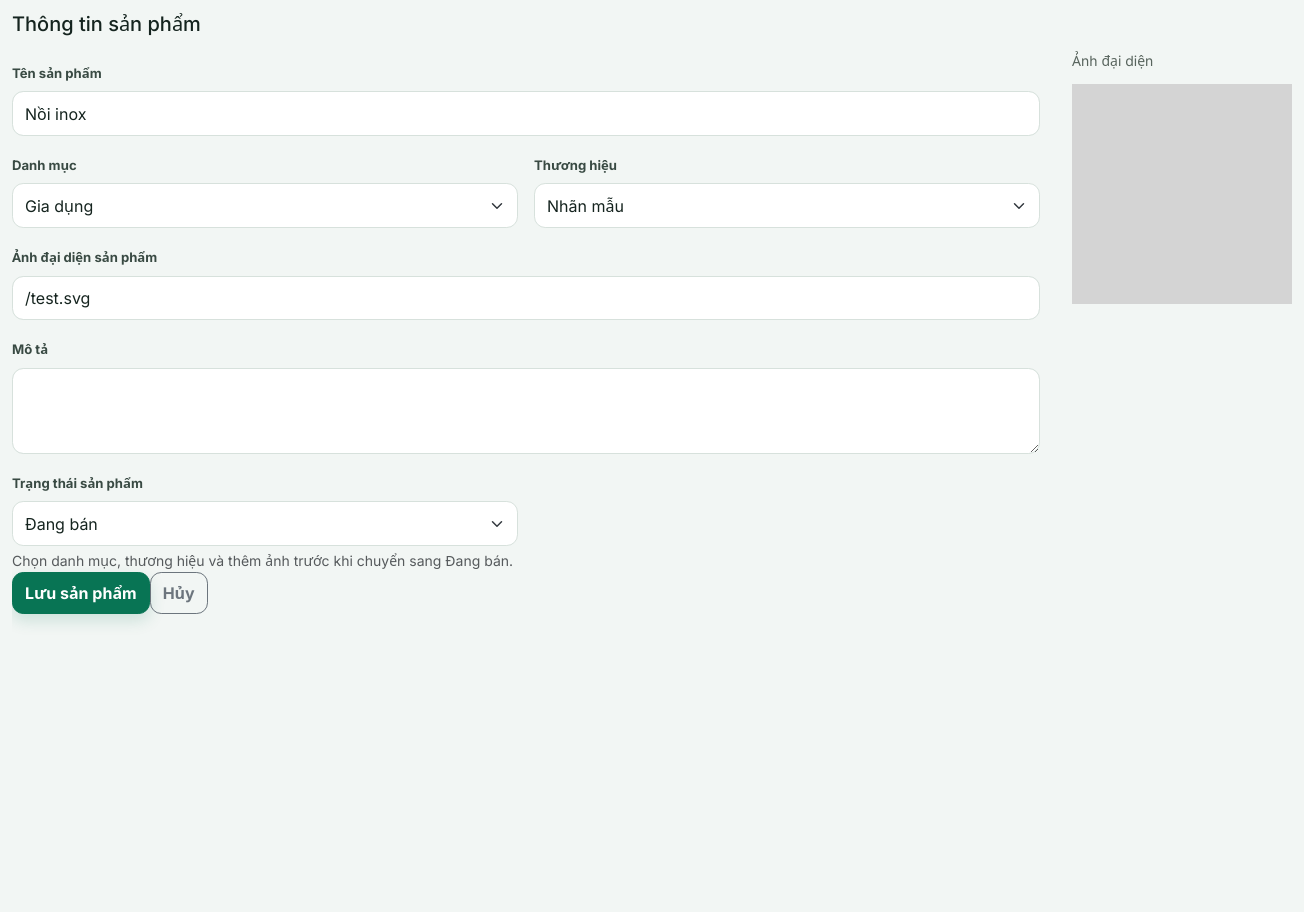
Test: keeps edits visible and explains a server version conflict instead of overwriting it
This screenshot has width=1304, height=912.
Replace the text in the field labelled "Tên sản phẩm" with "Nồi inox mới" at x=526, y=114, box [12,91,1040,136]
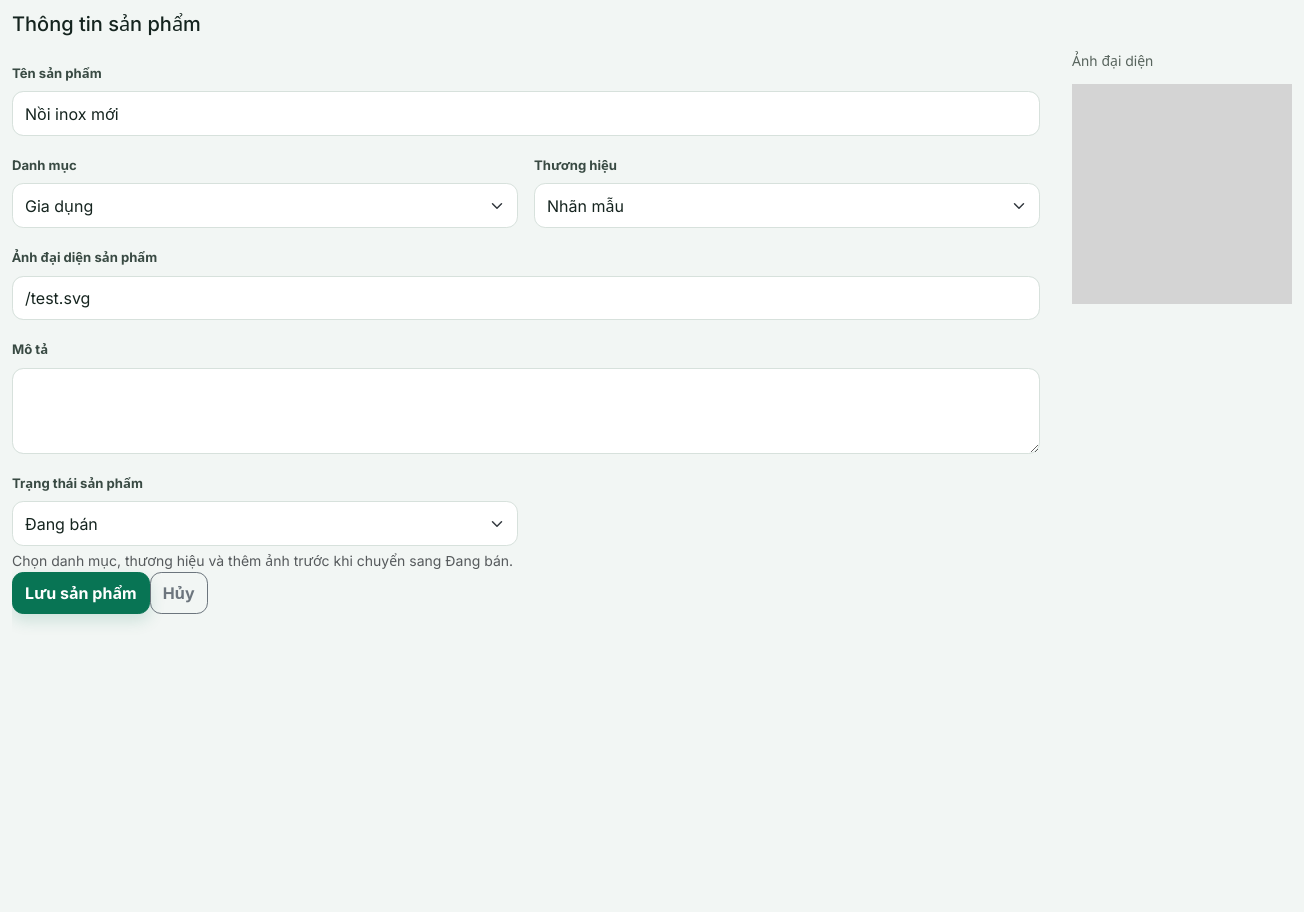
Click the button "Lưu sản phẩm" at x=81, y=593, box [12,572,150,614]
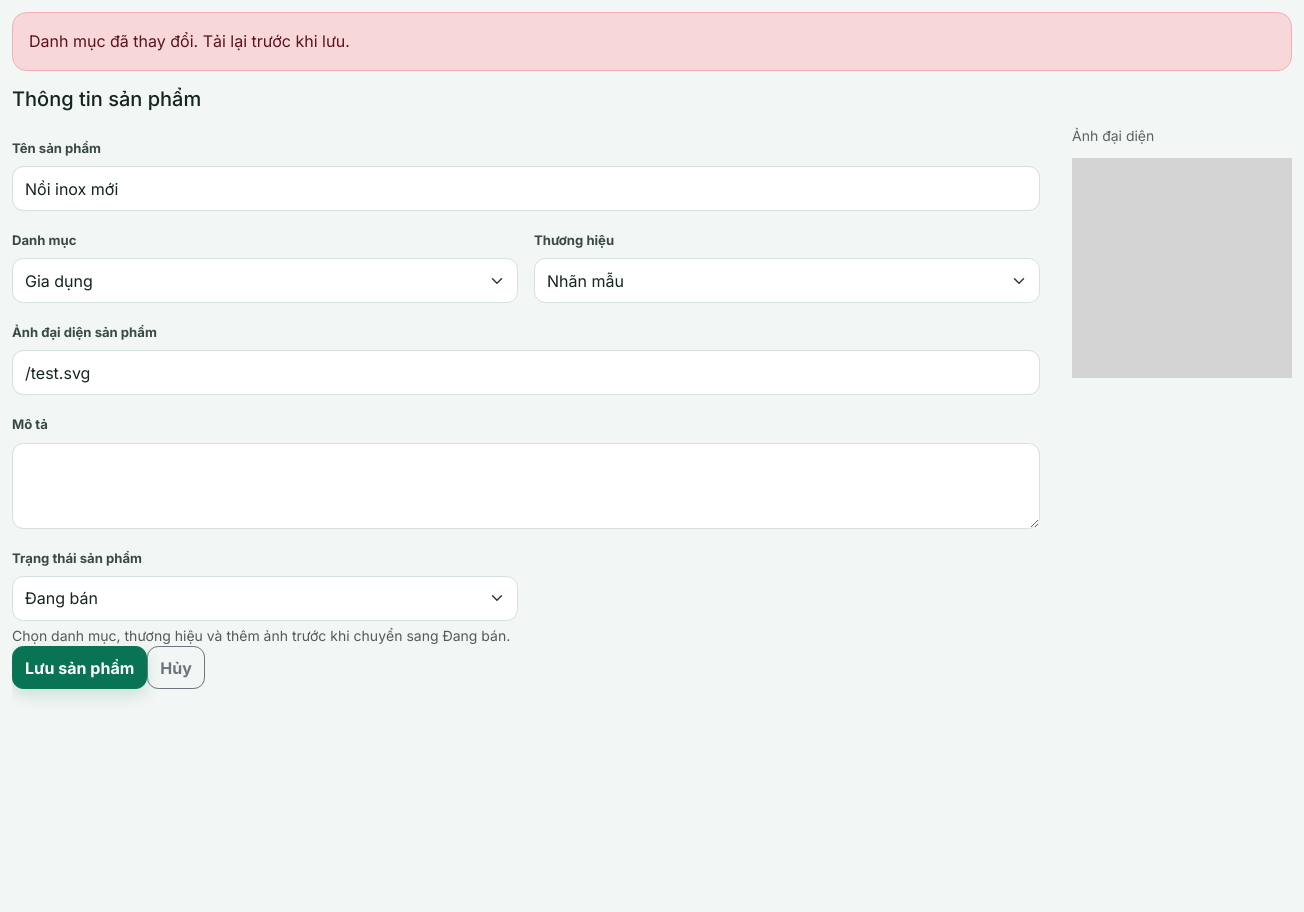
Now the message shows "Tải lại trước khi lưu", box [29,31,350,51]
